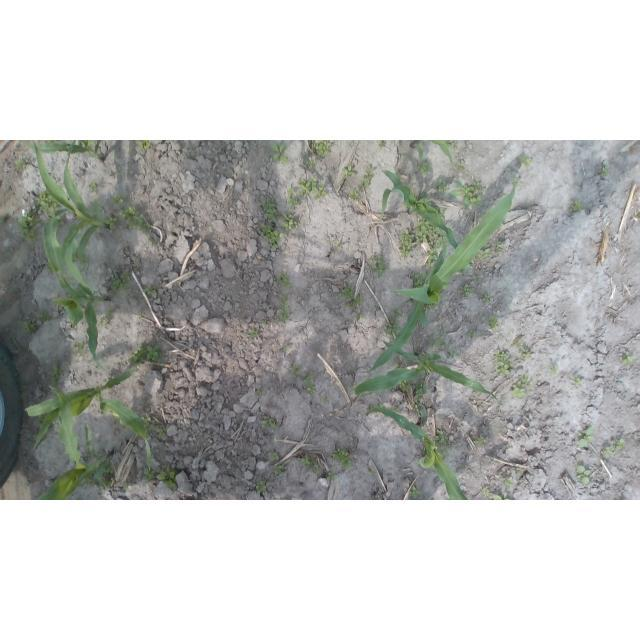Maize: (357, 184, 515, 375), (26, 368, 152, 473), (30, 140, 110, 292), (352, 339, 507, 413), (43, 207, 110, 369), (24, 389, 116, 500), (366, 406, 469, 500), (378, 169, 460, 252), (28, 140, 108, 160), (409, 140, 456, 168)
Weeds: (118, 204, 151, 232), (450, 180, 475, 208), (416, 218, 440, 243), (260, 222, 283, 248), (19, 211, 37, 243), (34, 190, 59, 212), (258, 196, 278, 223), (398, 229, 416, 259), (434, 430, 452, 459), (158, 466, 179, 489), (494, 349, 511, 376), (334, 447, 353, 471), (128, 345, 147, 368), (276, 294, 291, 322), (369, 255, 387, 278), (298, 177, 318, 197), (271, 141, 289, 163), (111, 272, 132, 290), (425, 242, 438, 269), (303, 372, 318, 395), (409, 271, 427, 290), (280, 213, 297, 233), (579, 427, 596, 447), (576, 465, 592, 486), (383, 320, 399, 340), (361, 165, 374, 189), (314, 140, 331, 158), (276, 271, 292, 289), (50, 364, 63, 386), (413, 380, 425, 403), (516, 154, 533, 170), (511, 382, 527, 399), (313, 183, 327, 202), (618, 350, 636, 364), (518, 373, 532, 391), (47, 214, 66, 227), (147, 345, 162, 361), (427, 336, 445, 349), (141, 417, 156, 432), (287, 197, 302, 212), (434, 179, 449, 194), (477, 247, 494, 260), (487, 315, 500, 332), (570, 373, 584, 388), (73, 341, 87, 356), (342, 165, 356, 180), (417, 162, 432, 176), (419, 191, 434, 205), (459, 282, 474, 296), (261, 417, 278, 429), (437, 230, 447, 250), (14, 157, 27, 172), (434, 207, 447, 222), (135, 141, 152, 152), (343, 284, 354, 301), (517, 348, 531, 361), (569, 200, 583, 213), (23, 320, 36, 334), (143, 467, 156, 481), (98, 476, 111, 490), (310, 459, 323, 473), (104, 216, 117, 229), (408, 486, 421, 499), (255, 480, 267, 494), (470, 195, 482, 209), (447, 346, 461, 358), (599, 163, 610, 177), (493, 492, 512, 500), (84, 474, 96, 486), (103, 461, 115, 473), (473, 182, 485, 194), (39, 311, 52, 322), (273, 463, 284, 476), (399, 380, 410, 393), (502, 477, 515, 488), (496, 239, 506, 253), (611, 439, 625, 449), (349, 188, 360, 200), (306, 156, 317, 168), (445, 141, 459, 150), (423, 303, 437, 312), (113, 193, 124, 204), (157, 429, 168, 440), (456, 161, 466, 173), (81, 255, 91, 267), (45, 261, 55, 273), (144, 285, 156, 295), (285, 184, 293, 199), (290, 365, 301, 375), (249, 329, 260, 339), (481, 487, 491, 498), (604, 446, 613, 458), (302, 454, 310, 467), (548, 363, 558, 373), (392, 309, 402, 319), (473, 436, 483, 446), (512, 177, 522, 186), (89, 181, 98, 191), (105, 307, 114, 317), (121, 483, 131, 492), (269, 452, 279, 461), (327, 472, 337, 481), (467, 330, 478, 338), (356, 310, 363, 322), (349, 383, 358, 392), (482, 294, 491, 303), (345, 303, 356, 310), (354, 294, 361, 305), (514, 468, 522, 477), (323, 395, 330, 405), (473, 274, 483, 281), (71, 250, 77, 261), (515, 340, 523, 348), (391, 404, 399, 412), (283, 342, 290, 351), (375, 403, 385, 409), (334, 241, 342, 248), (100, 316, 107, 324), (395, 359, 402, 367), (413, 404, 420, 412), (502, 394, 507, 404), (262, 318, 268, 326), (138, 312, 145, 318), (369, 469, 376, 475), (379, 141, 386, 147), (402, 360, 408, 367), (1, 217, 6, 225), (370, 496, 378, 501), (255, 391, 263, 396), (368, 406, 374, 411)
